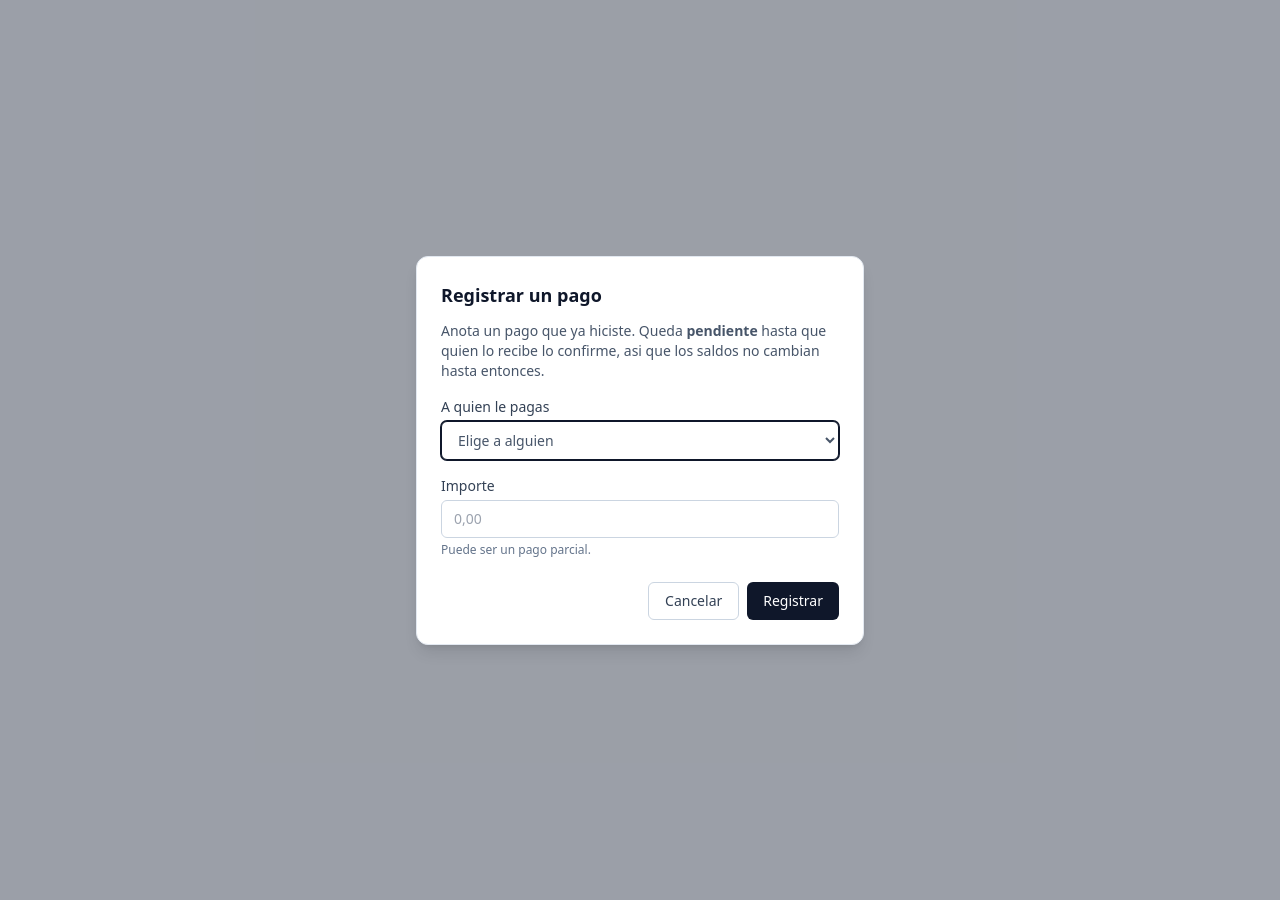
Test: RegistrarPagoModal › no envia nada si falta el destinatario o el importe
The width and height of the screenshot is (1280, 900).
Click the button "Registrar" at [793, 600], box top-left (747, 582), bottom-right (839, 620)
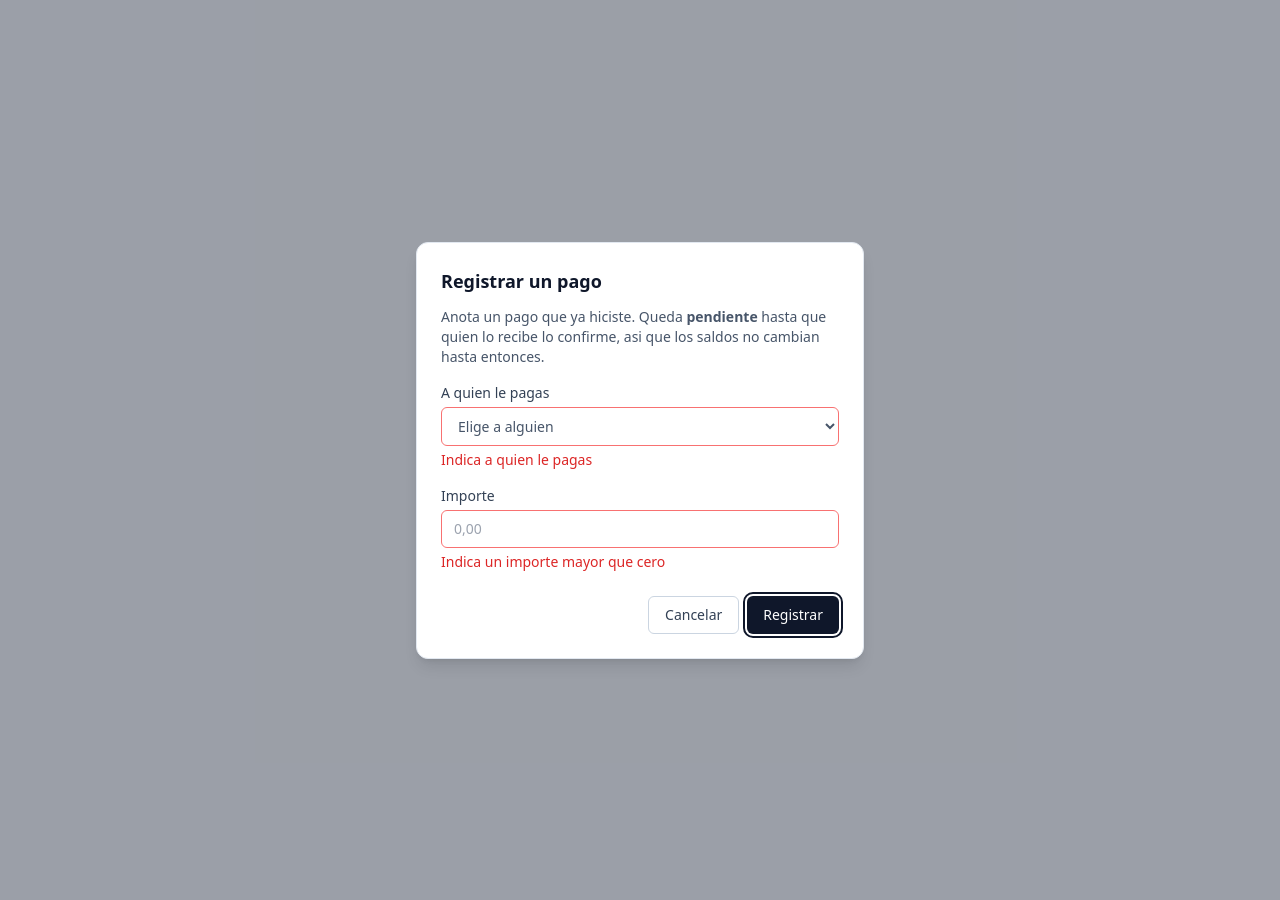
Expected: the text "Indica a quien le pagas" is shown, top-left (441, 450), bottom-right (592, 468)
Expected: the text "Indica un importe mayor que cero" is shown, top-left (441, 552), bottom-right (665, 570)
